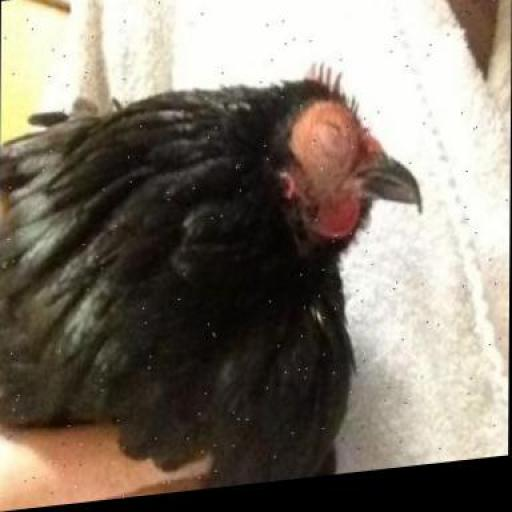disease: (282, 103, 392, 244)
